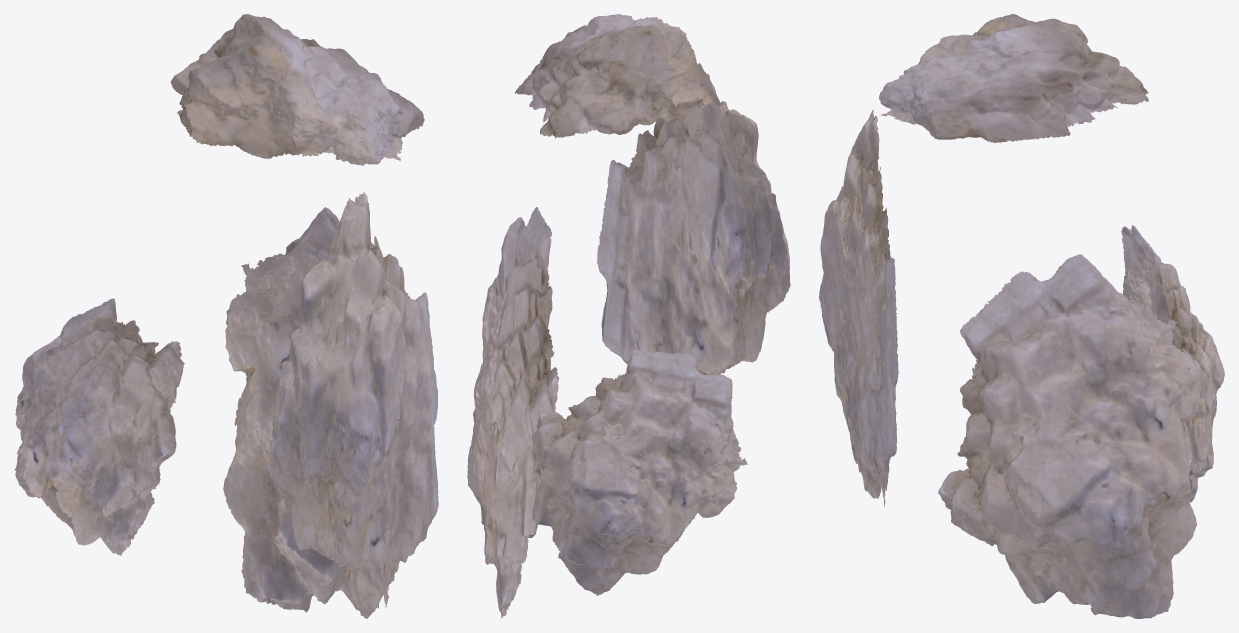
File: calcit2.glb
3 renders of one model, left to right at view 1: azimuth 30°, elevation 25°; view 2: azimuth 150°, elevation 25°; view 3: azimuth 270°, elevation 25°, orthographic. The views are drawn at different scales.
Visible parts, largest first — view 1: Object_2.002, Object_2.004, Object_2.001, Object_2.003; view 2: Object_2.002, Object_2.004, Object_2.003, Object_2.001; view 3: Object_2.003, Object_2.001, Object_2.002, Object_2.004.
Part boxes in pixels (box(x1,y1,x2,y2)): Object_2.002: box(268, 192, 438, 618); Object_2.004: box(14, 298, 184, 555); Object_2.001: box(170, 14, 424, 165); Object_2.003: box(223, 207, 438, 612); Object_2.002: box(597, 63, 790, 374); Object_2.004: box(531, 349, 747, 595); Object_2.003: box(467, 207, 558, 618); Object_2.001: box(515, 14, 712, 138); Object_2.003: box(938, 254, 1200, 618); Object_2.001: box(879, 14, 1148, 142); Object_2.002: box(819, 109, 898, 506); Object_2.004: box(1121, 225, 1224, 502).
Size of the model in its own units: 19.76 by 34.96 by 22.48.
4 materials, 4 textured.
